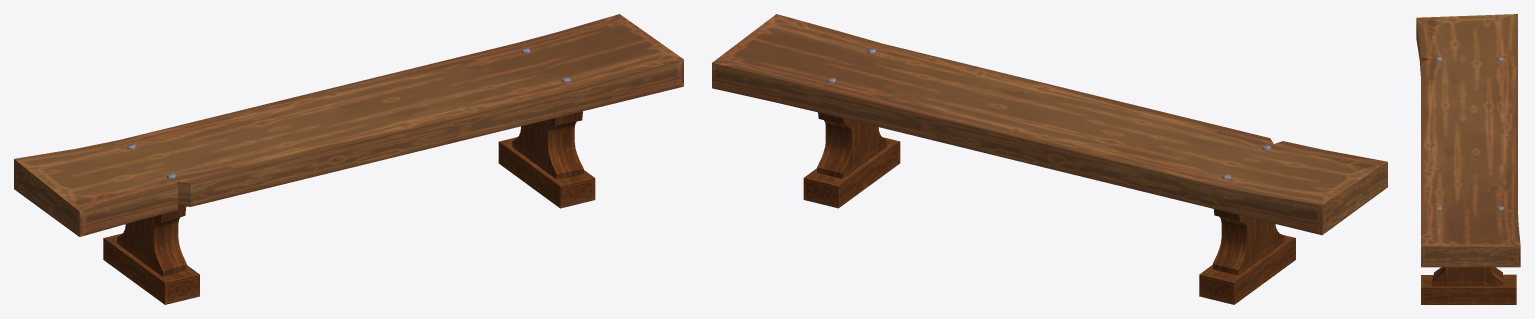
The model's file is bench.glb.
3 views of the same model, side by side, from view 1: azimuth 30°, elevation 25°; view 2: azimuth 150°, elevation 25°; view 3: azimuth 270°, elevation 25° (orthographic). The views are drawn at different scales.
Visible parts, largest first — view 1: Bench; view 2: Bench; view 3: Bench.
Part boxes in pixels (box(x1,y1,x2,y2)): Bench: box(14, 14, 683, 304); Bench: box(712, 14, 1387, 304); Bench: box(1416, 14, 1520, 304).
Bounding box in the file's own units: 2.78 × 0.5332 × 0.5343.
Materials: 2 (2 with a texture image).
